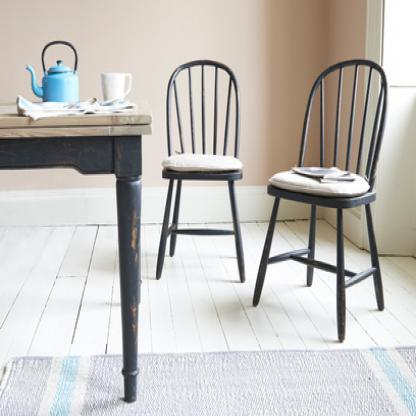chair: (252, 57, 392, 338), (160, 66, 247, 285)
table: (0, 101, 159, 411)
